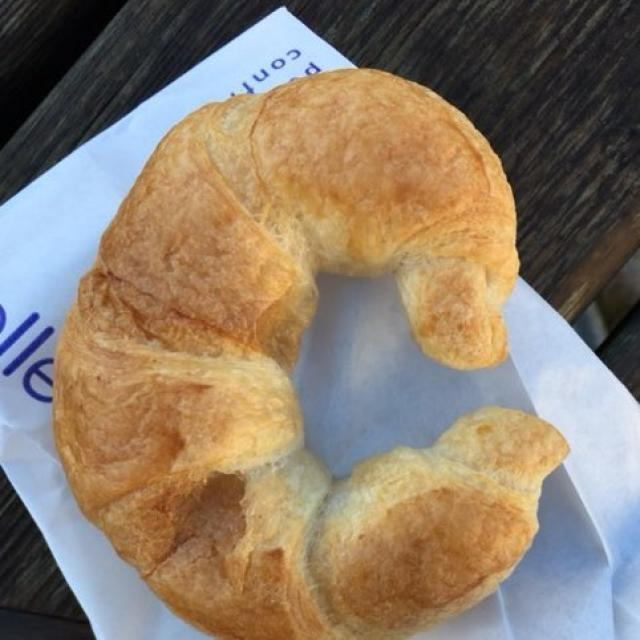croissant: (59, 78, 564, 625)
